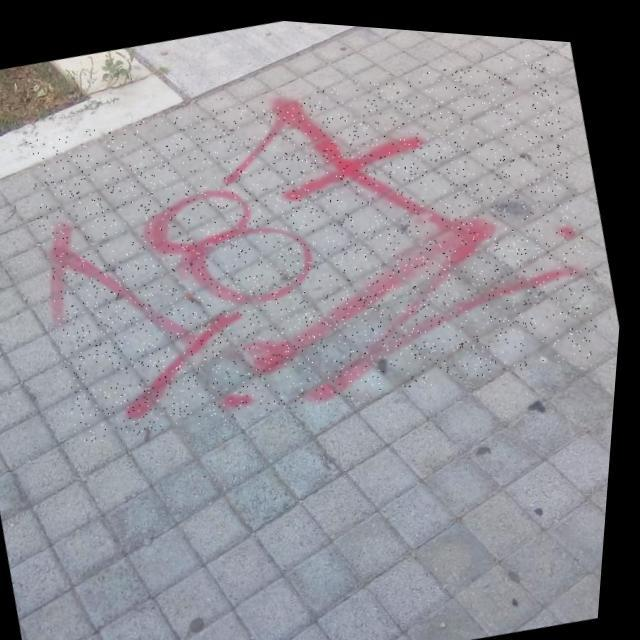-: (9, 11, 625, 474)
